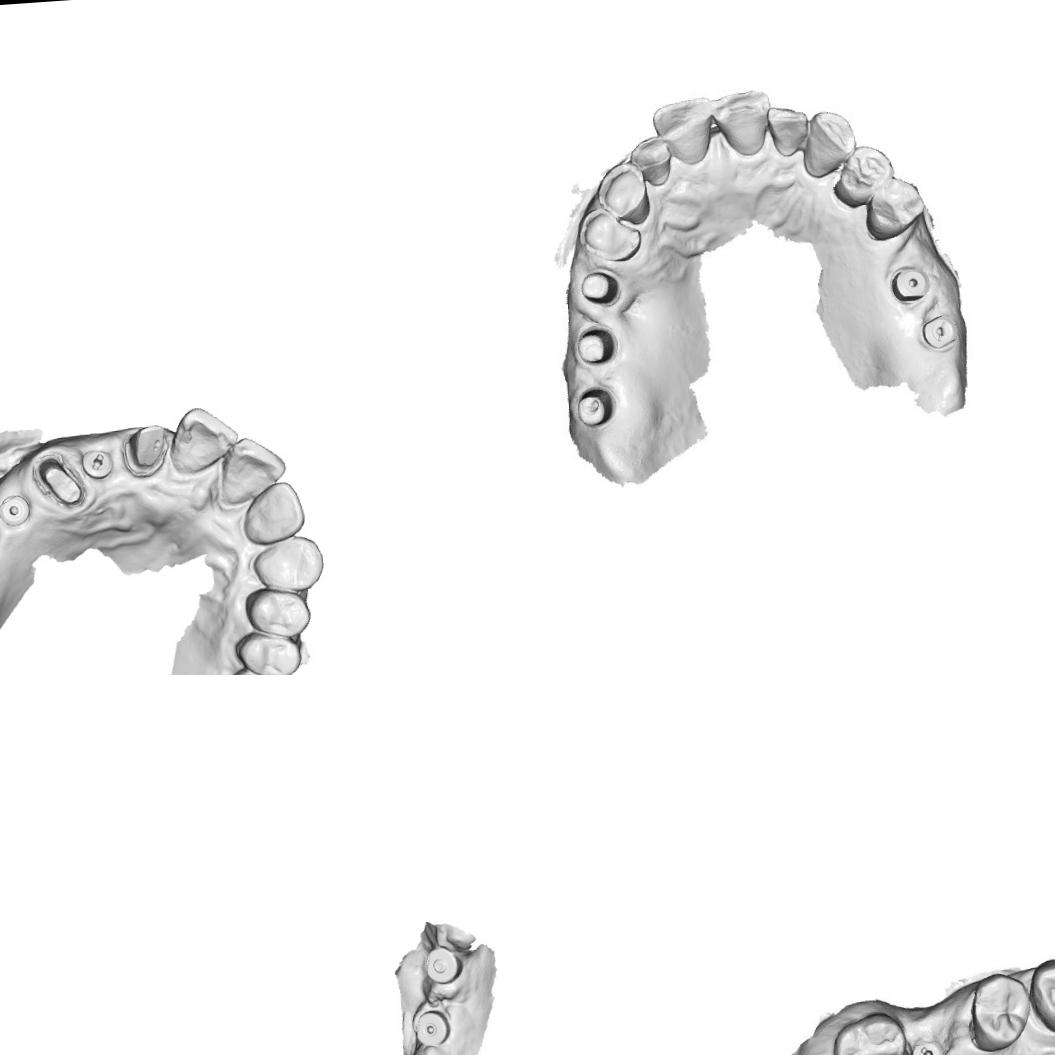abutment: (569, 322, 618, 368), (572, 384, 617, 432), (573, 268, 615, 307)
canine: (249, 532, 326, 597), (796, 105, 860, 182), (594, 160, 650, 229)
crown: (33, 448, 86, 510), (123, 420, 170, 476)
implant: (890, 258, 932, 306), (422, 944, 464, 985), (413, 1007, 452, 1047), (924, 312, 958, 349), (0, 491, 33, 529)
implant_minus: (78, 442, 116, 482), (909, 1039, 945, 1055)
incisor: (164, 402, 242, 478), (211, 432, 290, 506), (648, 94, 716, 164), (238, 479, 306, 546), (712, 87, 774, 157), (764, 100, 810, 156), (628, 134, 674, 188)
molar: (829, 1009, 912, 1055)
premolar: (966, 970, 1034, 1050), (826, 142, 898, 212), (864, 174, 928, 243), (242, 584, 314, 642), (578, 204, 645, 264), (232, 628, 303, 675), (1033, 957, 1055, 1034)
